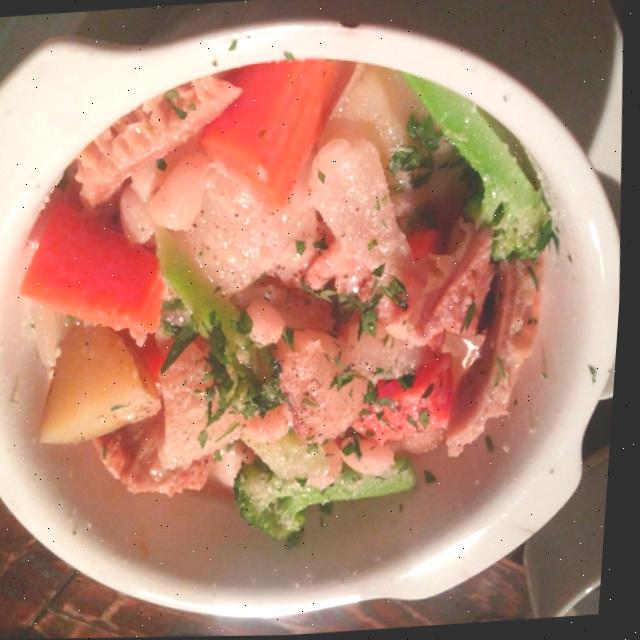汤锅炖物: (0, 6, 639, 640)
